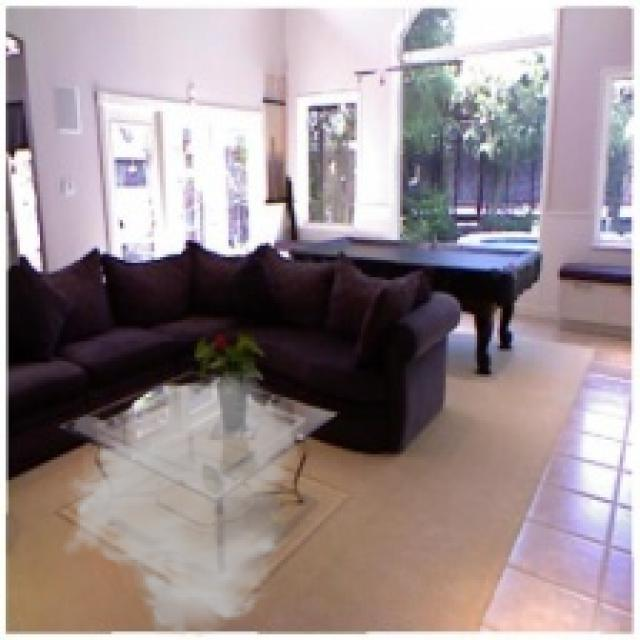smoke: (60, 369, 303, 637)
